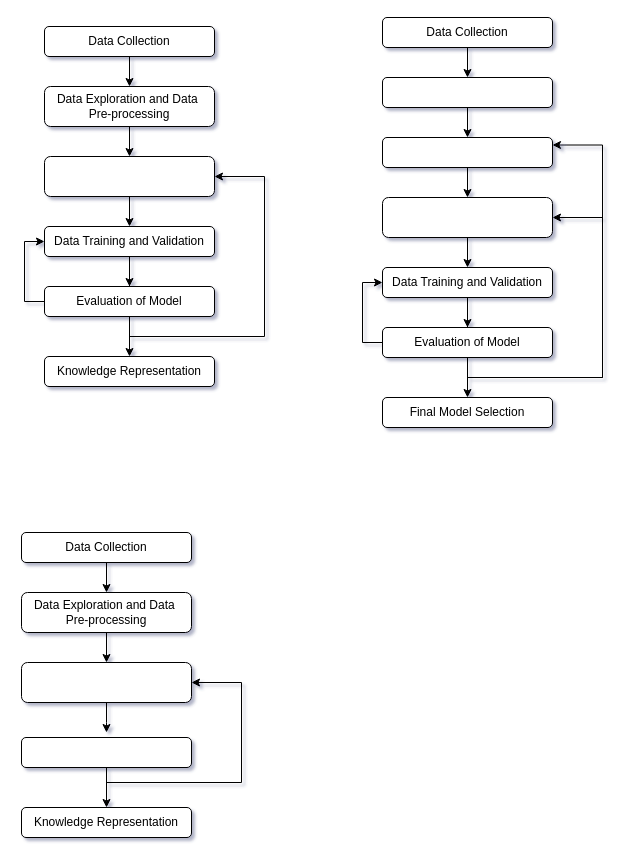
Image size: 634x861. Some labels were removed from this diagram. The centre of each missing label's shape, as x and y in pixels:
"Clustering Algorithms Selection" belongs at (x=106, y=682).
"Data Exploration" belongs at (x=467, y=92).
"Data Mining using Machine Learning" belongs at (x=129, y=176).
"Data Preprocessing" belongs at (x=467, y=152).
"Evaluation of Cluster Model" belongs at (x=106, y=752).
"Model Selection for Machine Learning" belongs at (x=467, y=217).
